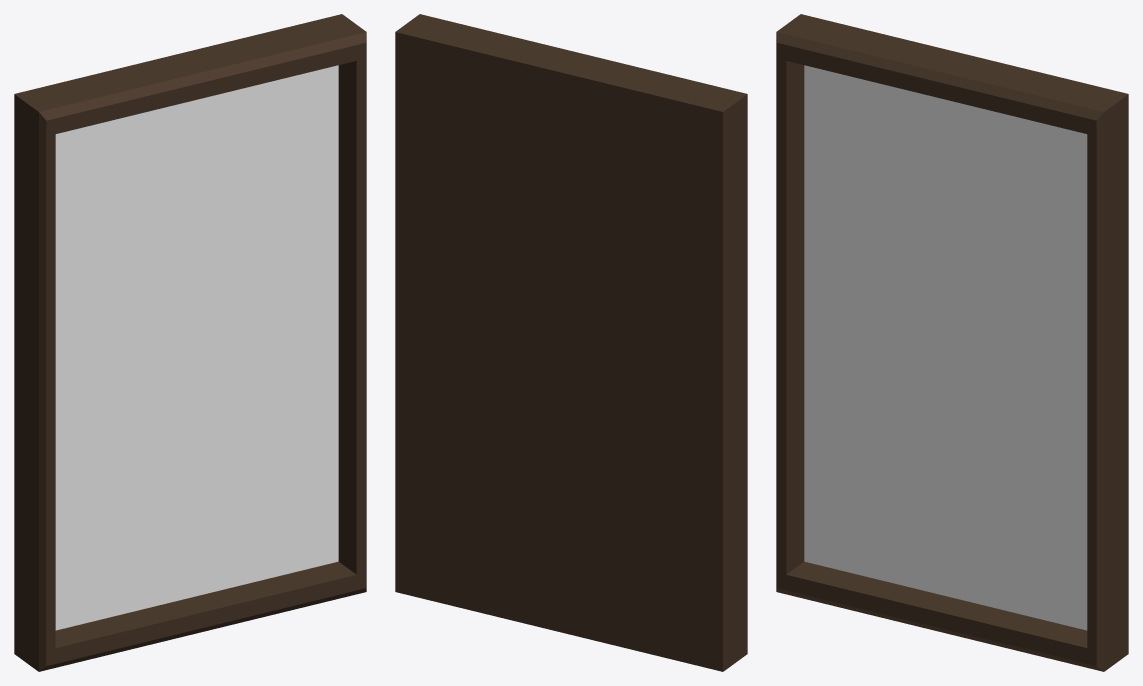
Rendered from cadre.fbx.
The picture shows the model from 3 angles, left to right: view 1: azimuth 30°, elevation 25°; view 2: azimuth 150°, elevation 25°; view 3: azimuth 330°, elevation 25°; orthographic projection.
Visible parts, largest first — view 1: Cube; view 2: Cube; view 3: Cube.
Boxes of the visible parts, x1=… form: Cube: x1=14, y1=14, x2=366, y2=671; Cube: x1=395, y1=14, x2=747, y2=671; Cube: x1=776, y1=14, x2=1128, y2=671.
Size of the model in its own units: 200 by 326 by 29.63.
